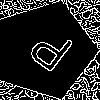P: (19, 25, 76, 82)
